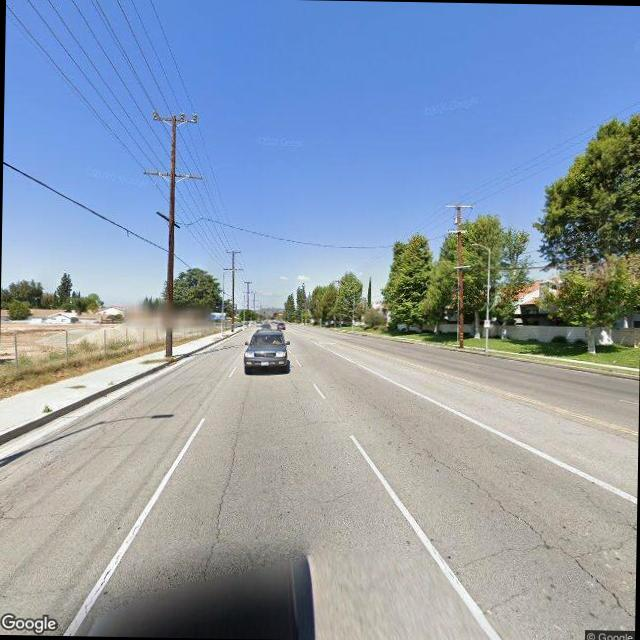crack: (380, 410, 632, 620), (58, 408, 382, 458), (450, 524, 636, 576), (200, 380, 244, 573)
